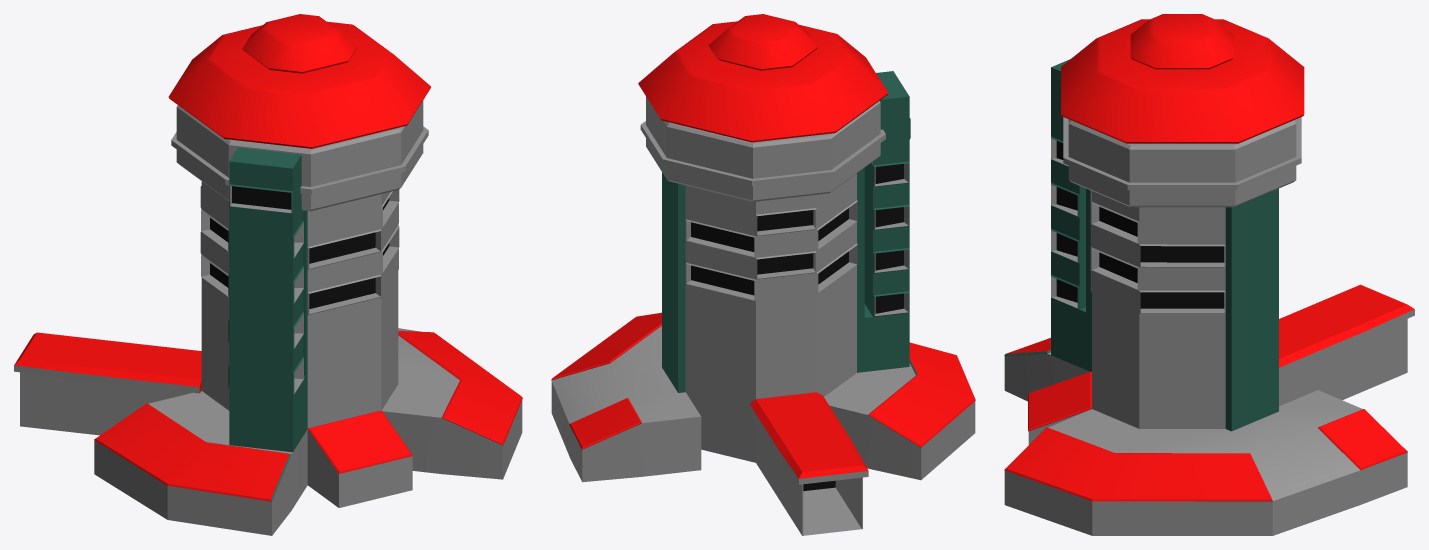
Rendered from Zwolletower.FBX.
3 renders of one model, left to right at view 1: azimuth 30°, elevation 25°; view 2: azimuth 150°, elevation 25°; view 3: azimuth 270°, elevation 25°, orthographic. The views are drawn at different scales.
Parts seen in each view (by area): view 1: Boîte001; view 2: Boîte001; view 3: Boîte001.
Part boxes in pixels (x1=…): Boîte001: x1=14, y1=14, x2=522, y2=535; Boîte001: x1=551, y1=14, x2=975, y2=535; Boîte001: x1=1004, y1=14, x2=1414, y2=535.
Bounding box in the file's own units: 69.47 × 73.21 × 64.64.
